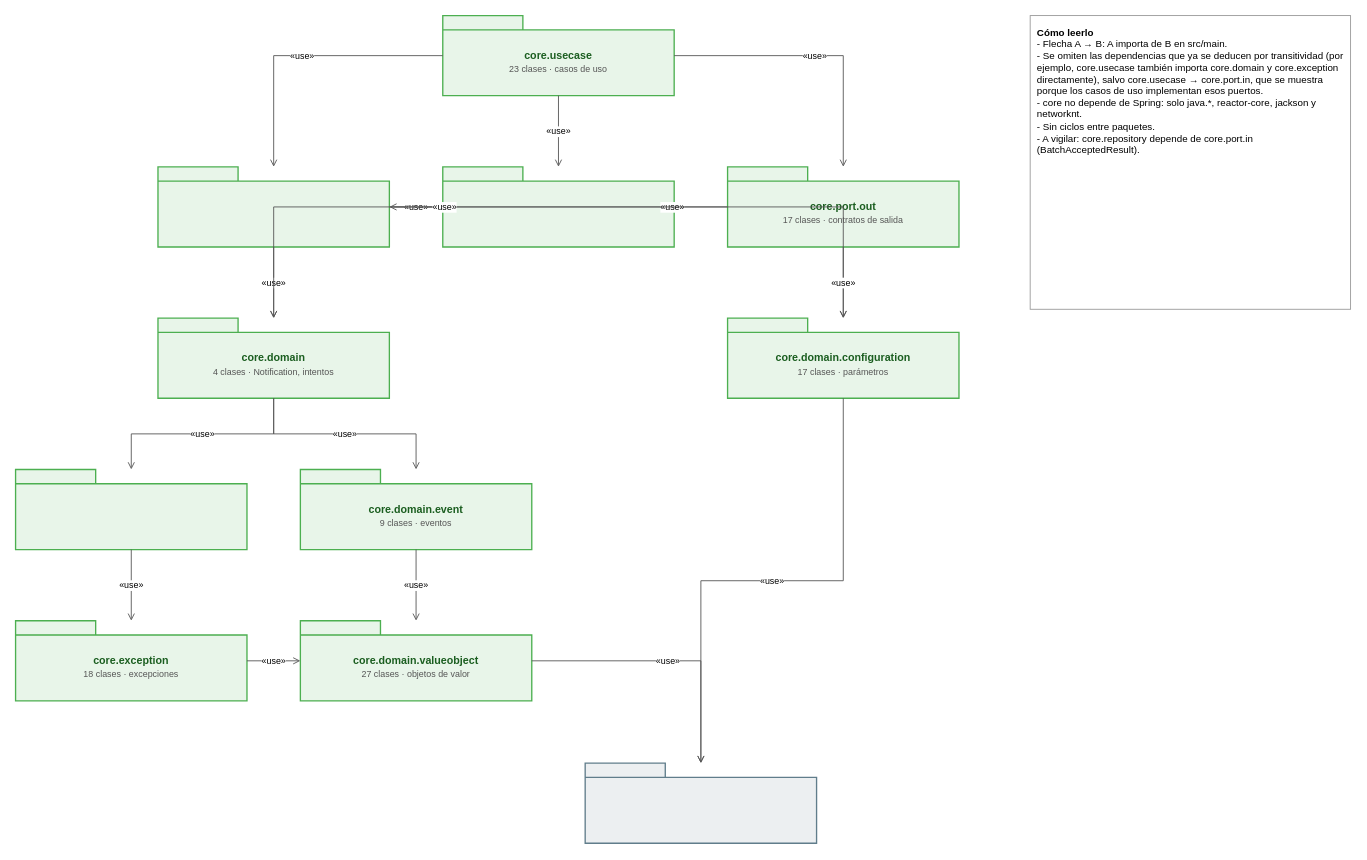
Image size: 1367x860. Some labels were removed from this diagram. Here are the shapes that lost their labels. From the top down, the box of each, then its label:
(157, 166, 390, 247): core.port.in 44 clases · contratos de entrada
(442, 166, 674, 247): core.repository 4 clases · persistencia
(15, 468, 247, 550): core.domain.policy 4 clases · reglas
(584, 762, 817, 844): utils módulo Maven · 6 clases
